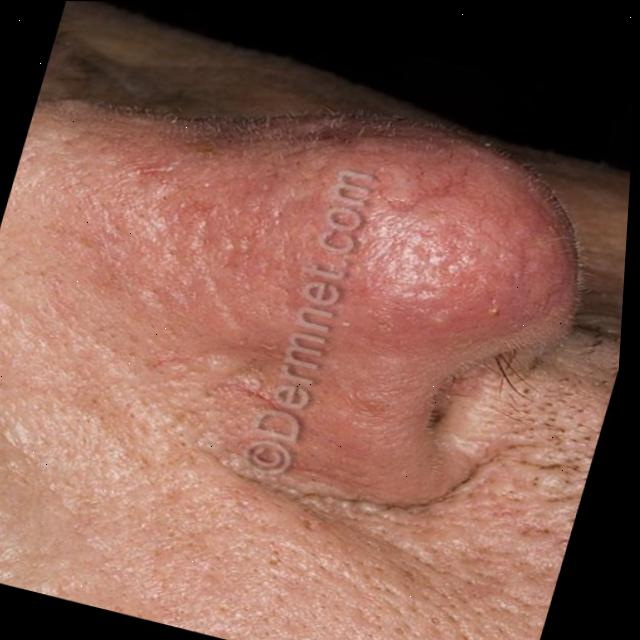Rosacea: (52, 53, 582, 400)
